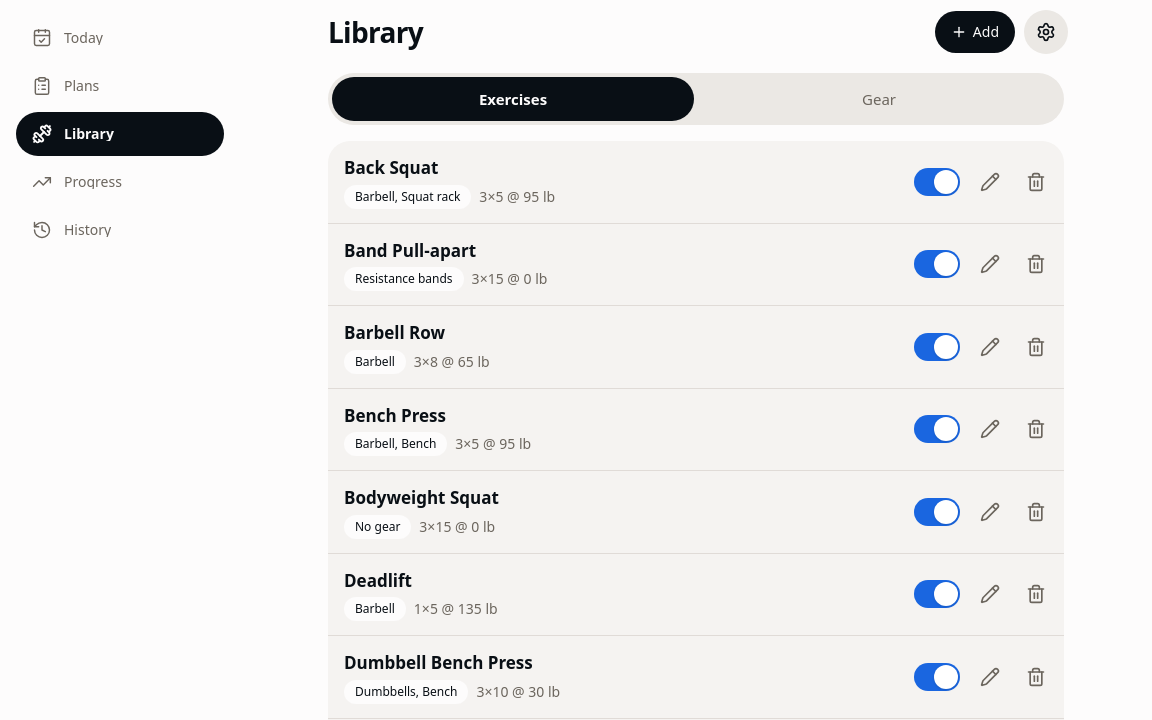
Test: rejects a non-http video link inline
The width and height of the screenshot is (1152, 720).
Click the button with aria-label "add exercise" at (975, 32), box [934, 10, 1016, 54]
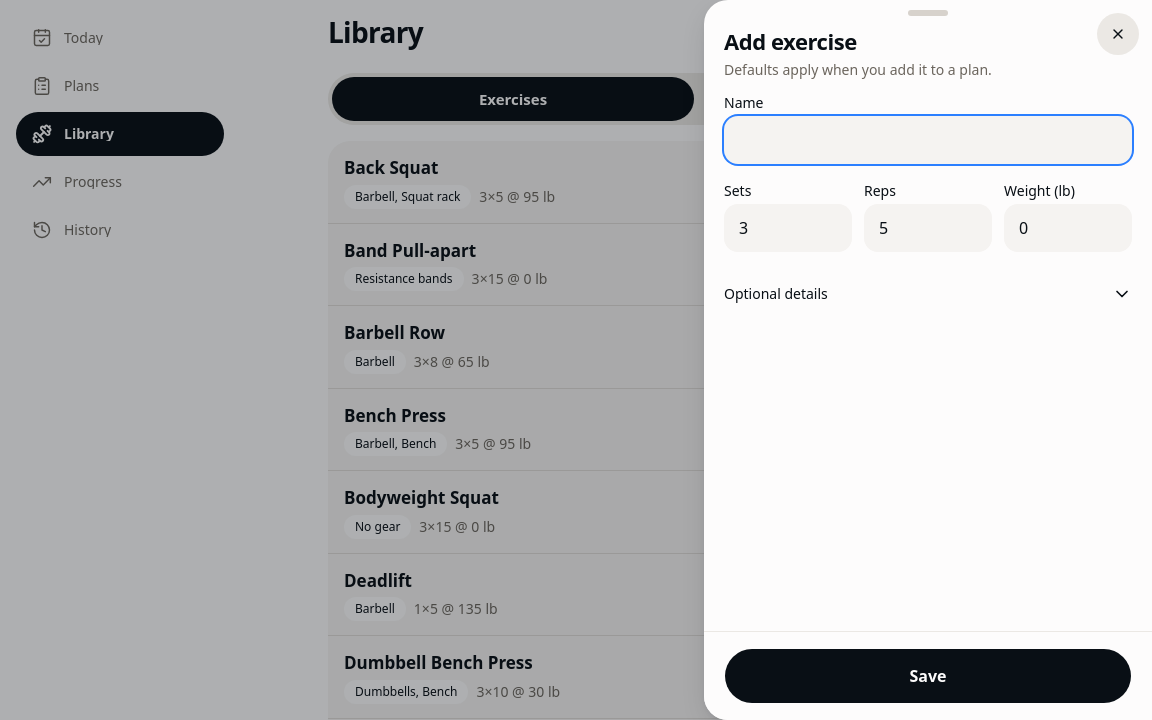
Type "X" into the field labelled "Name" at (928, 140), box [724, 116, 1132, 164]
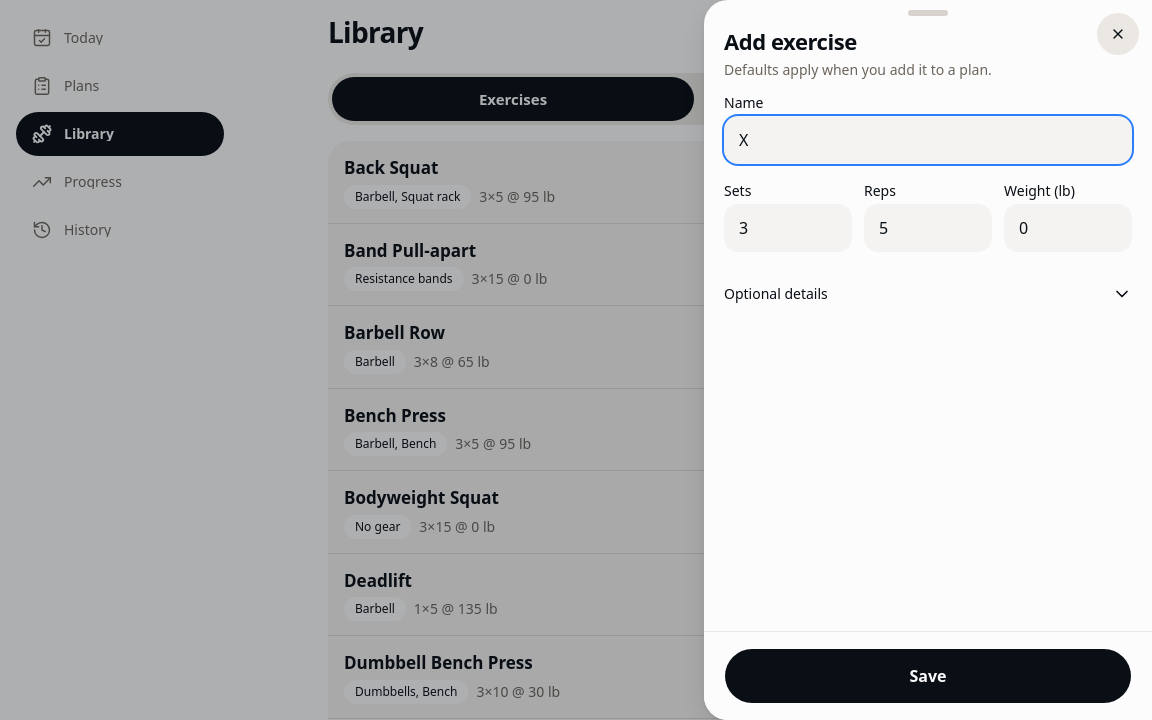
Click the button "Optional details" at (776, 293), box [712, 272, 1144, 316]
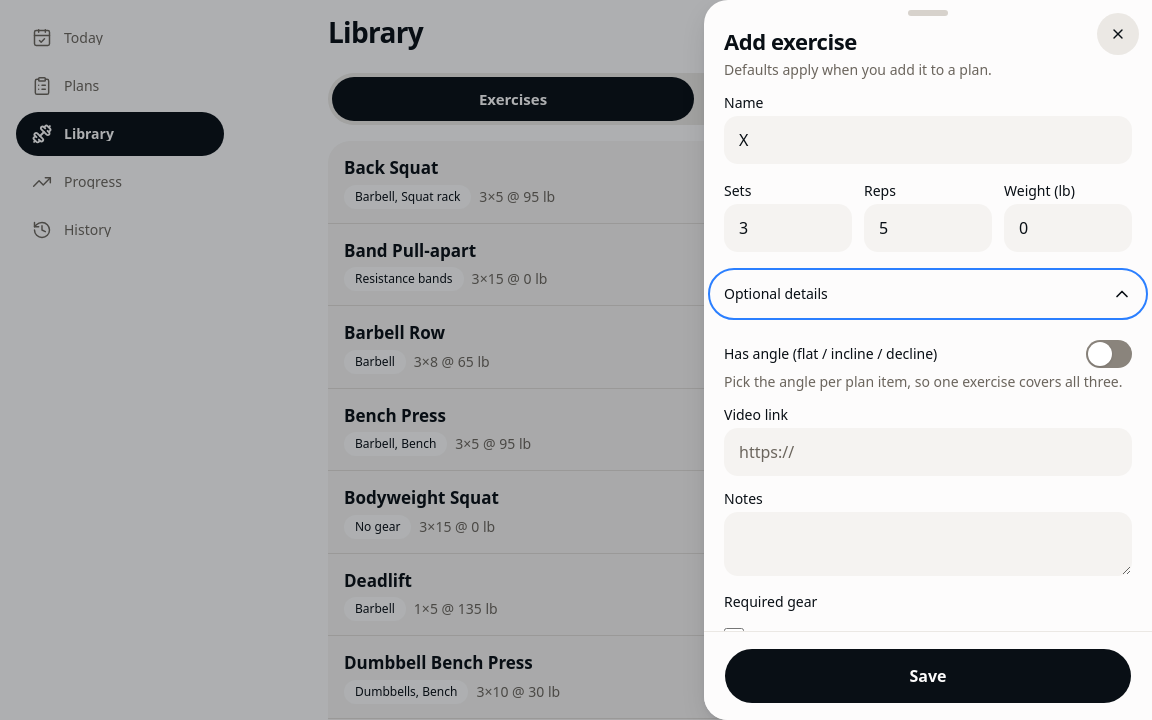
Type "javascript:alert(1)" into the field labelled "Video link" at (928, 452), box [724, 428, 1132, 476]
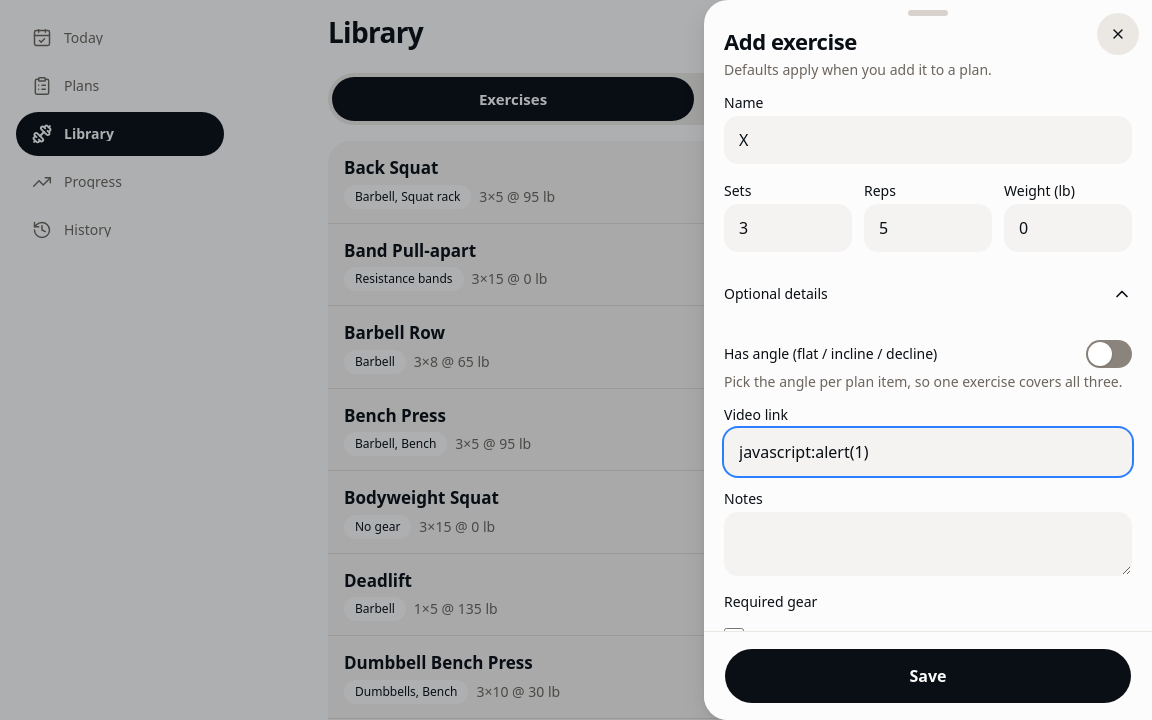
Click the button "Save" at (928, 676), box [724, 648, 1132, 704]
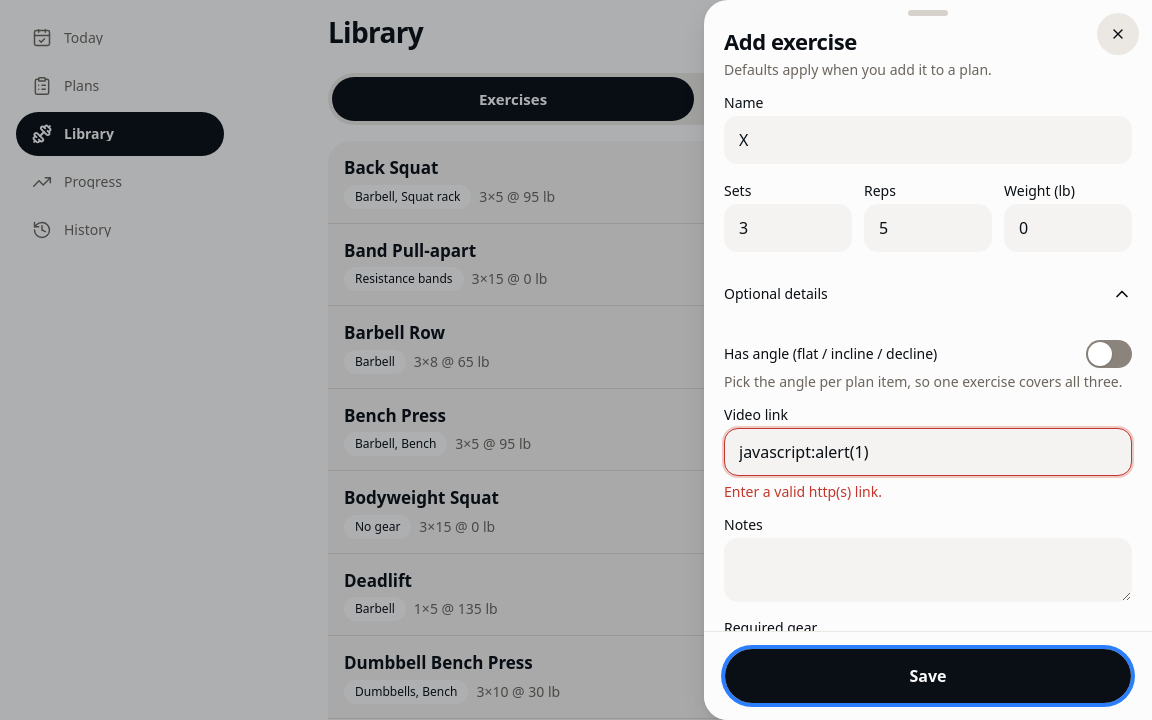
Check: the text "Enter a valid http(s) link." is shown, box [724, 482, 882, 500]
